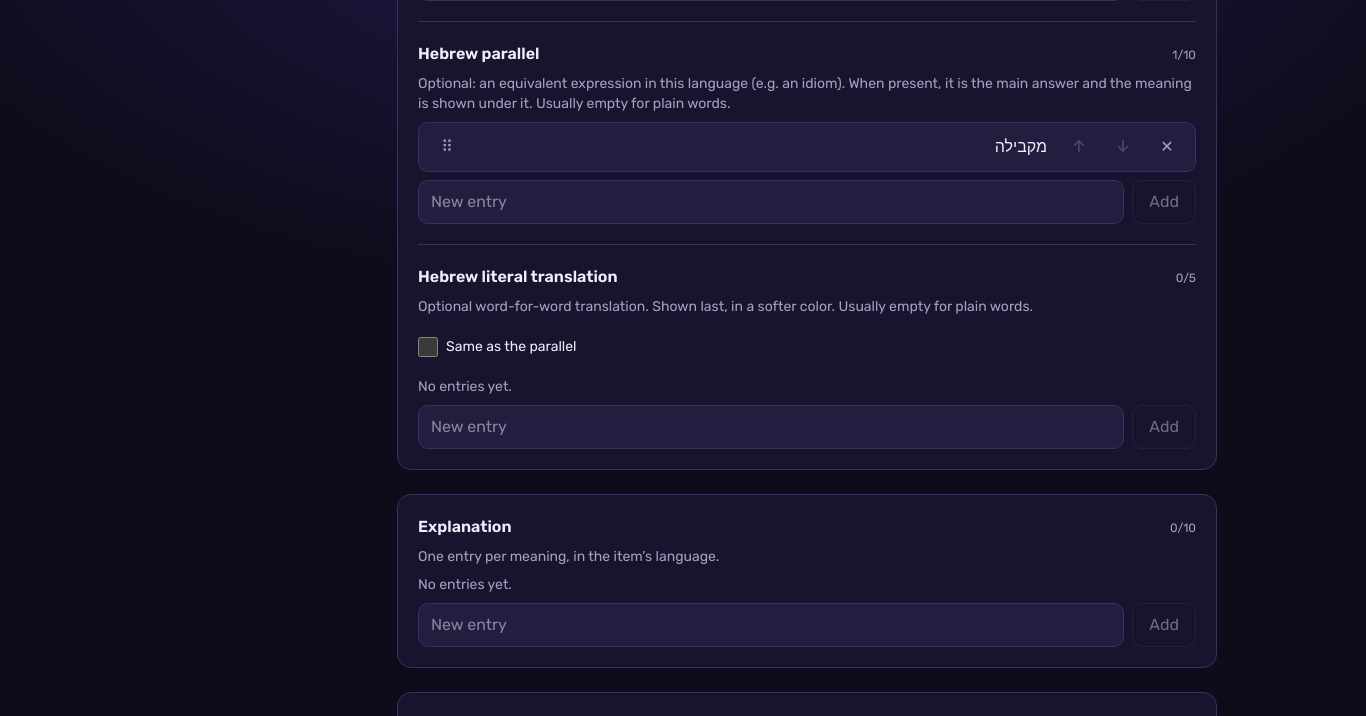
AdminApp › literal: "Same as the parallel" saves the marker and replaces the list (D-026)
(page scrolled)
Click the checkbox labelled "Same as the parallel" at (428, 347), box [418,337,438,357]
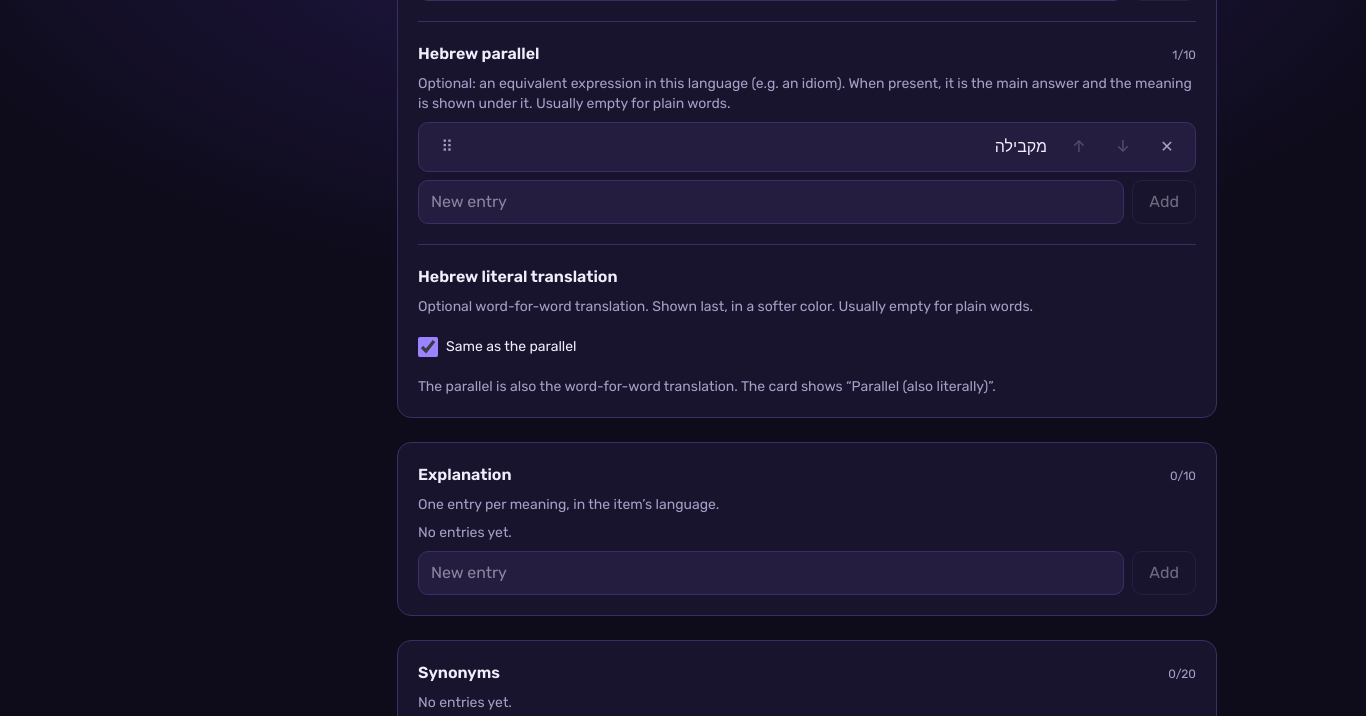
expect the checkbox labelled "Same as the parallel" is checked: met, box [418,337,438,357]
expect the text "The parallel is also the word-for-word translation" is shown: met, box [418,378,996,395]
